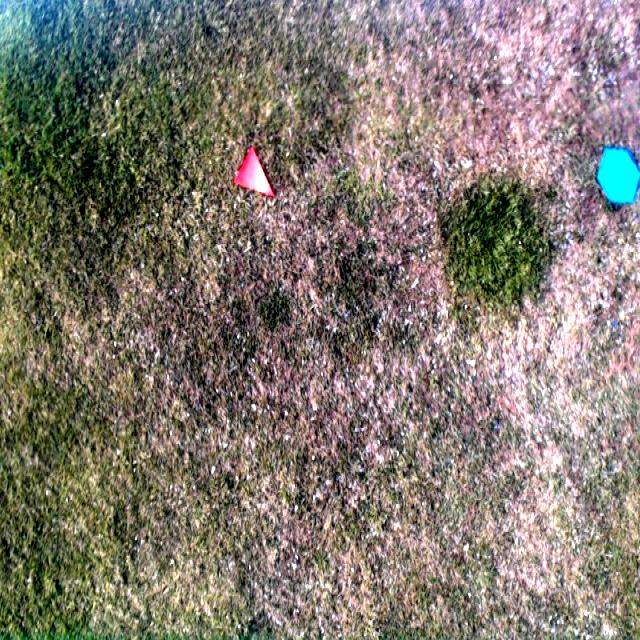blue_hexagon: (596, 146, 640, 202)
red_triangle: (232, 143, 277, 202)
